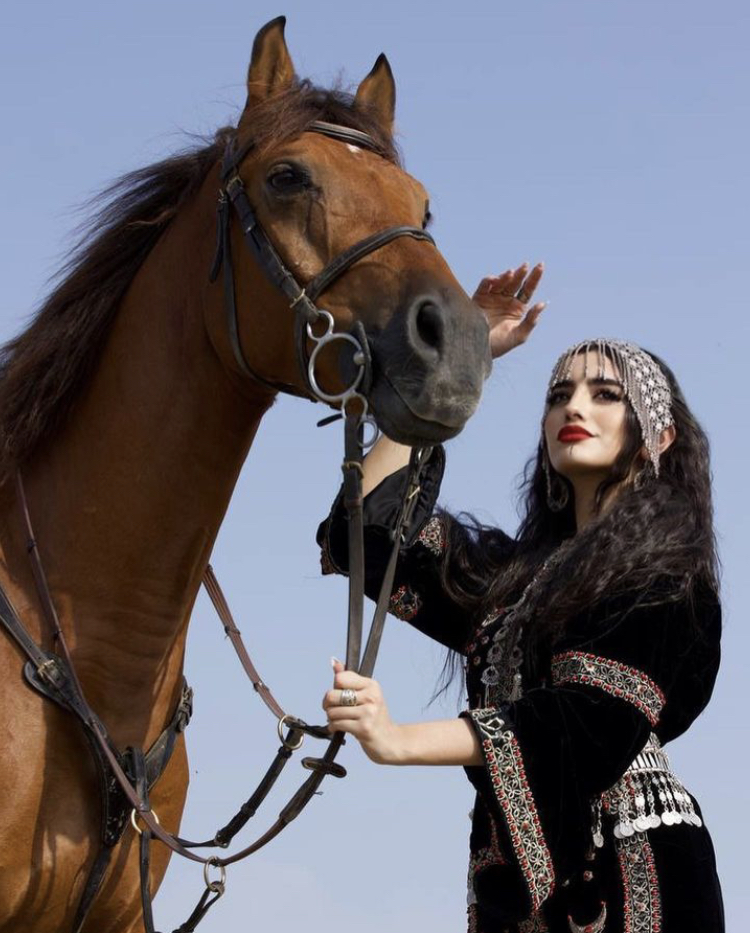Saudi_Founding_Day: (313, 263, 730, 933)
